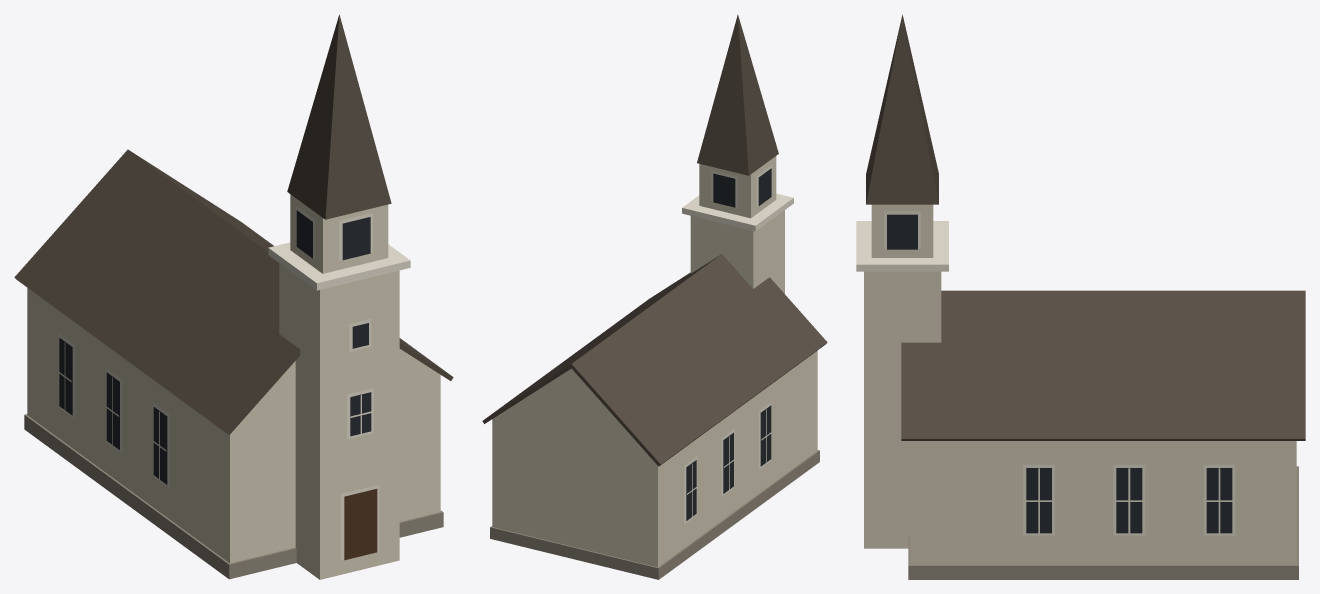
File: church.glb
The picture shows the model from 3 angles, left to right: view 1: azimuth 30°, elevation 25°; view 2: azimuth 150°, elevation 25°; view 3: azimuth 270°, elevation 25°; orthographic projection. The views are drawn at different scales.
Parts seen in each view (by area): view 1: church; view 2: church; view 3: church.
Part boxes in pixels (x1,y1,x2,y2): church: [14, 14, 453, 579]; church: [482, 14, 827, 579]; church: [856, 14, 1305, 579].
Size of the model in its own units: 9.7 by 22.1 by 17.45.
